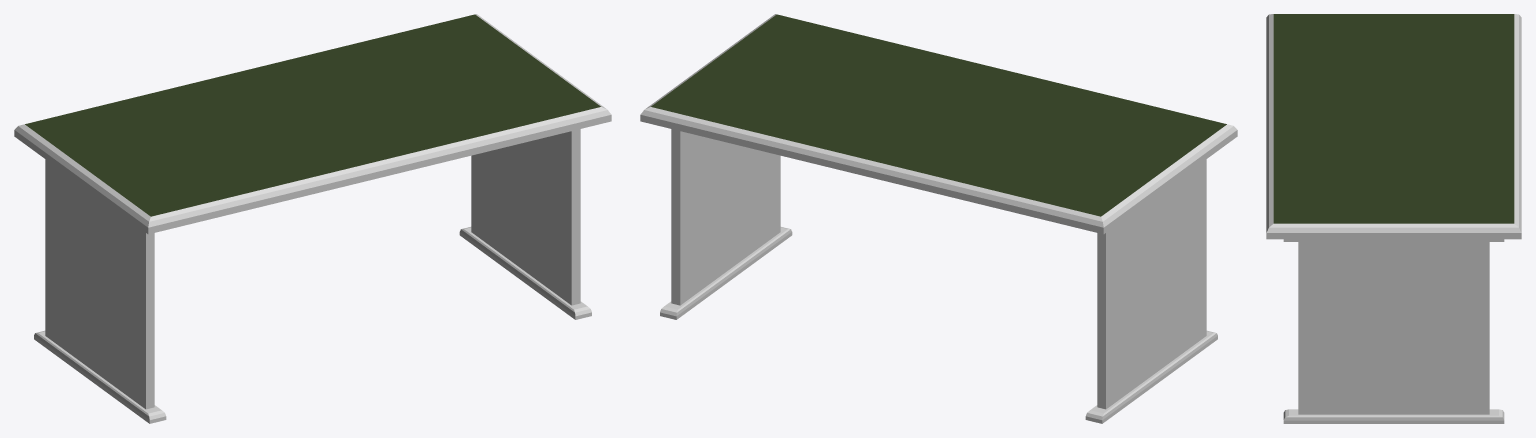
The model's file is Desk.fbx.
3 renders of one model, left to right at view 1: azimuth 30°, elevation 25°; view 2: azimuth 150°, elevation 25°; view 3: azimuth 270°, elevation 25°, orthographic. The views are drawn at different scales.
Visible parts, largest first — view 1: Table Top; view 2: Table Top; view 3: Table Top.
Boxes of the visible parts, box(x1,y1,x2,y2) form: Table Top: box(14, 14, 611, 423); Table Top: box(640, 14, 1237, 423); Table Top: box(1266, 14, 1521, 423).
Bounding box in the file's own units: 183 × 91.44 × 80.01.
